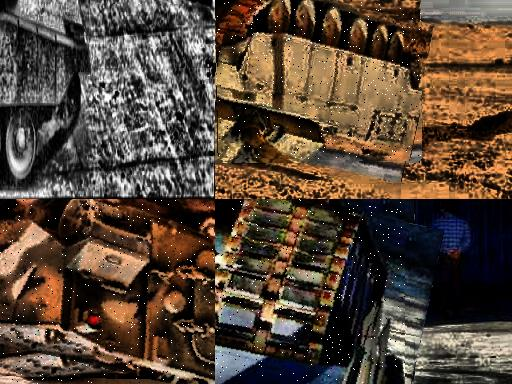tanks: (1, 200, 216, 384), (216, 200, 404, 384), (216, 1, 422, 160), (1, 1, 91, 180), (198, 1, 212, 6)
